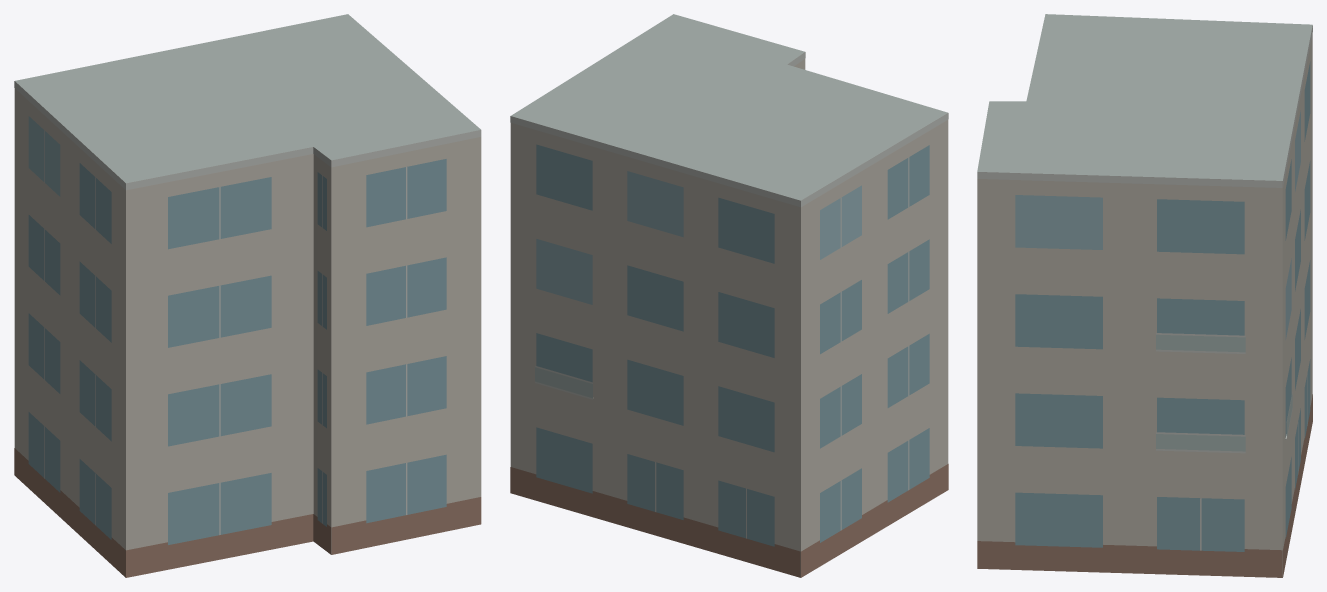
The model's file is survey-upis-33042901.glb.
3 renders of one model, left to right at view 1: azimuth 30°, elevation 25°; view 2: azimuth 150°, elevation 25°; view 3: azimuth 270°, elevation 25°, orthographic. The views are drawn at different scales.
Parts seen in each view (by area): view 1: survey-upis-33042901.tmp; view 2: survey-upis-33042901.tmp; view 3: survey-upis-33042901.tmp.
Part boxes in pixels (x1,y1,x2,y2): survey-upis-33042901.tmp: [14, 14, 481, 577]; survey-upis-33042901.tmp: [510, 14, 948, 577]; survey-upis-33042901.tmp: [977, 14, 1312, 577].
Size of the model in its own units: 12.43 by 13.77 by 10.56.
